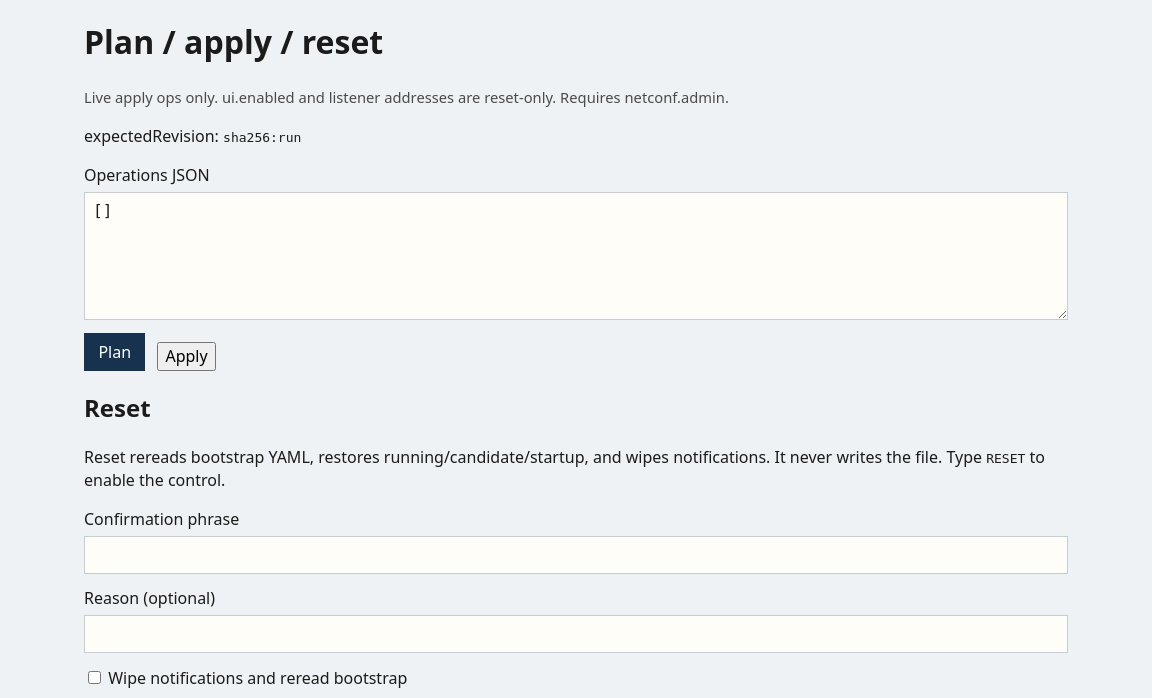
Test: ApplyPage › keeps reset disabled until RESET is typed and confirmed
Type "RESET" into the field labelled "Confirmation phrase" at (576, 555), box left=84, top=536, right=1068, bottom=574
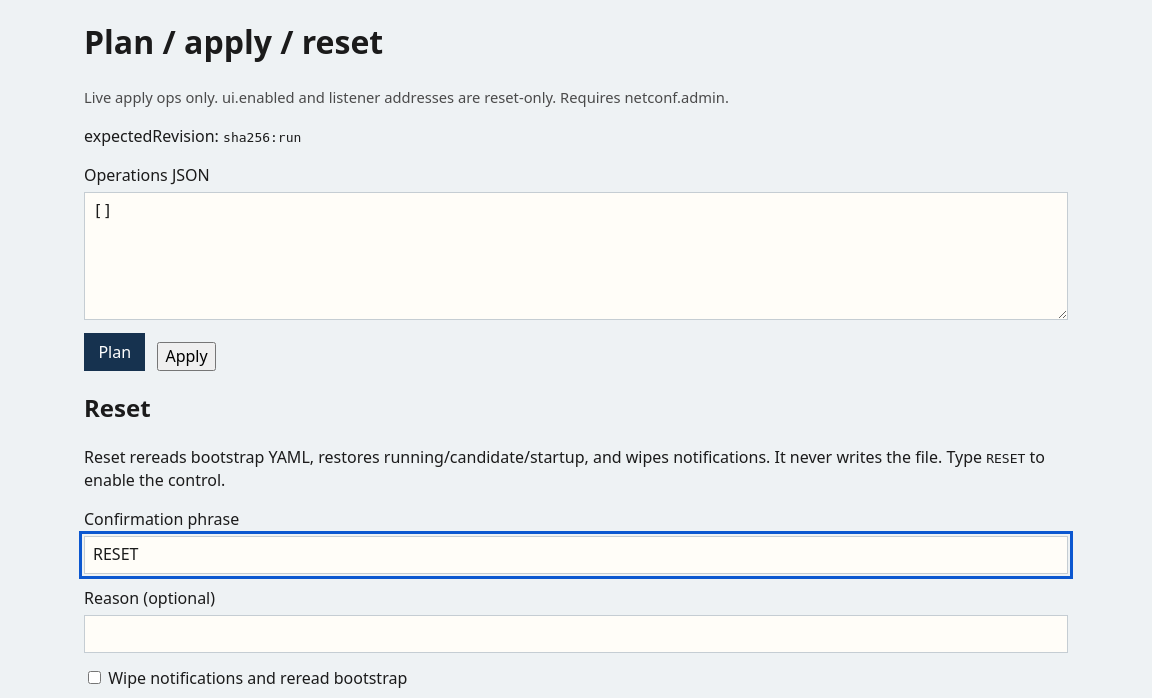
Click the checkbox labelled "Wipe notifications and reread bootstrap" at (94, 678), box left=88, top=671, right=101, bottom=684
(page scrolled)
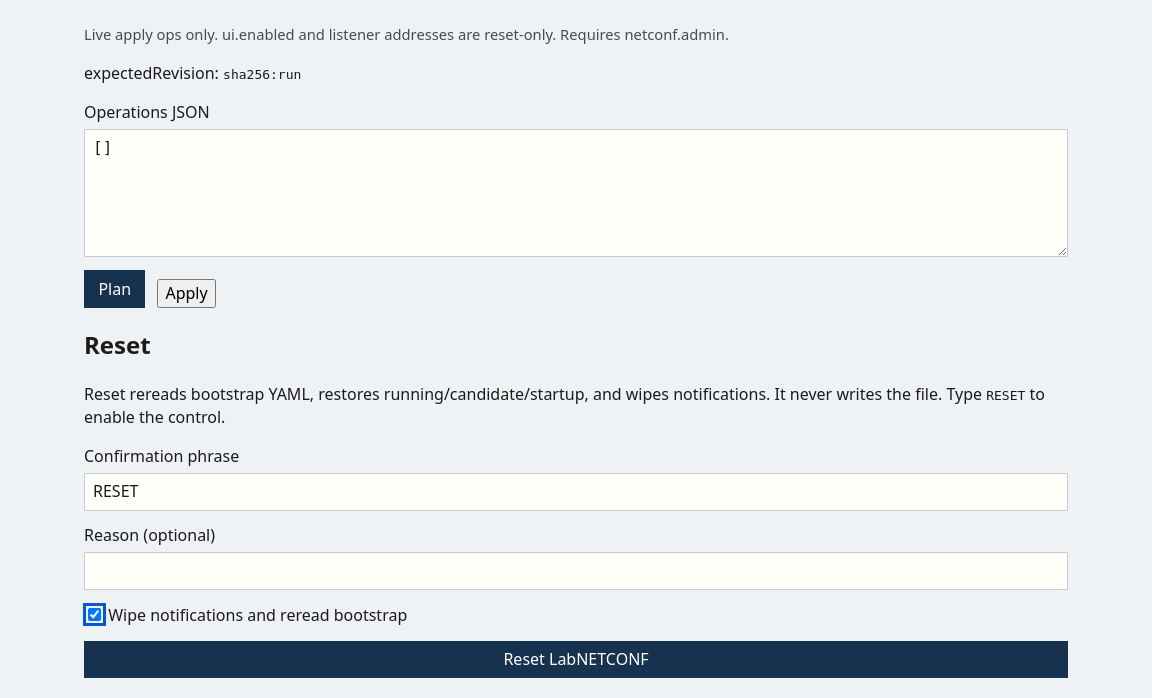
Now the button "Reset LabNETCONF" is enabled, box left=84, top=641, right=1068, bottom=678
